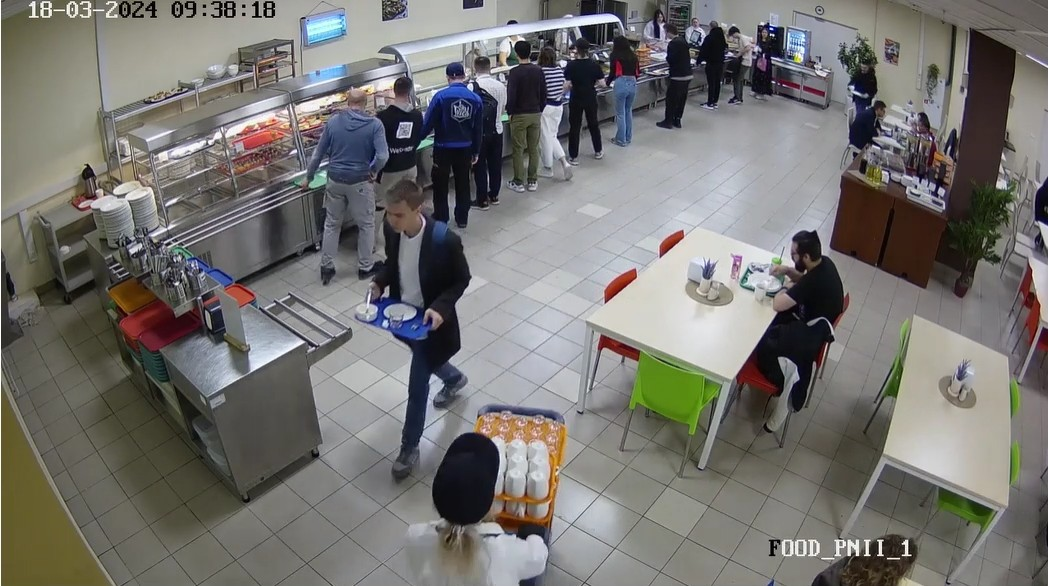Na_Kasse: (700, 18, 725, 109), (729, 24, 750, 102), (755, 23, 773, 100)
Ne_v_Ocheredi: (366, 183, 465, 462), (844, 52, 878, 106)
Personal: (402, 432, 545, 586), (503, 22, 535, 50), (644, 11, 668, 34), (686, 10, 704, 37)
Vybiraet: (316, 82, 379, 275), (424, 63, 473, 220), (502, 38, 540, 195), (468, 55, 503, 205), (381, 72, 419, 186), (567, 35, 601, 159), (536, 48, 567, 182), (604, 32, 640, 141), (657, 25, 682, 128)
Za_Stolom: (790, 512, 925, 586), (766, 233, 841, 329), (839, 102, 886, 164), (1028, 166, 1048, 246), (913, 112, 940, 156)
